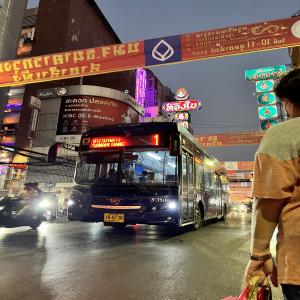Bus Line Number: (147, 132, 166, 148)
Bus Side Number: (148, 196, 172, 203)
Destination Sign: (91, 134, 129, 150)
TSB-Bus: (64, 122, 231, 230)
